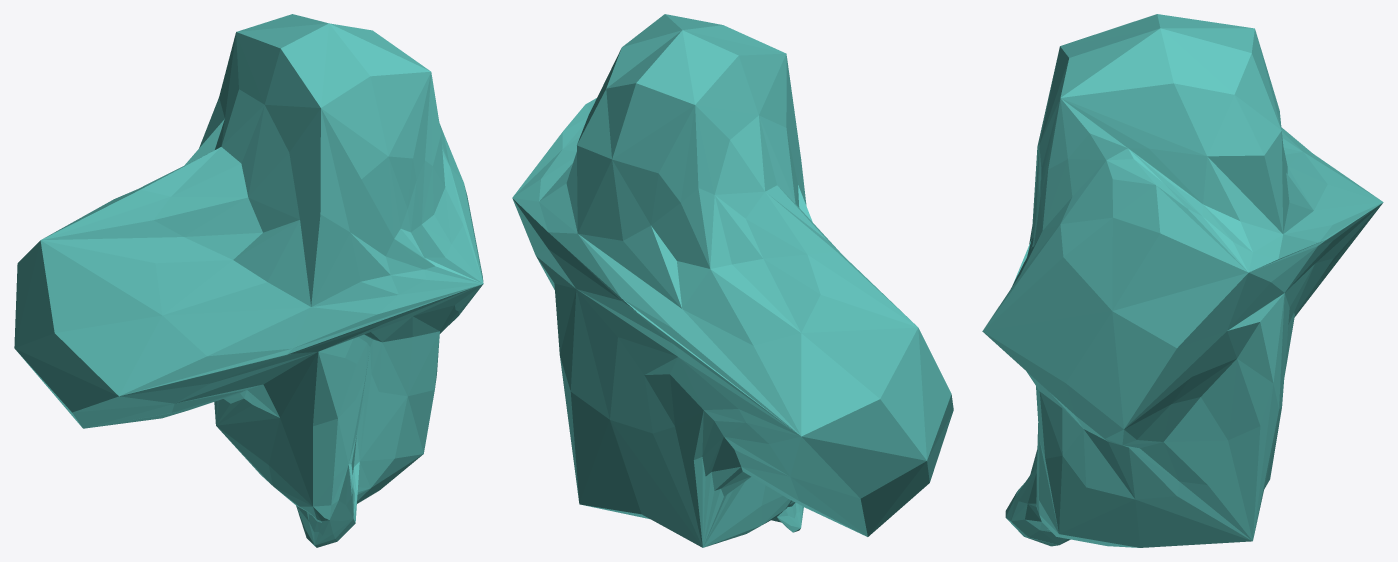
3 views of the same model, side by side, from view 1: azimuth 30°, elevation 25°; view 2: azimuth 150°, elevation 25°; view 3: azimuth 270°, elevation 25° (orthographic). The views are drawn at different scales.
Parts seen in each view (by area): view 1: 326_Cube.1333; view 2: 326_Cube.1333; view 3: 326_Cube.1333.
Boxes of the visible parts, <box> form: 326_Cube.1333: <box>14,14,483,547</box>; 326_Cube.1333: <box>512,14,953,547</box>; 326_Cube.1333: <box>982,14,1383,547</box>.
Size of the model in its own units: 11.45 by 13.09 by 8.63.
